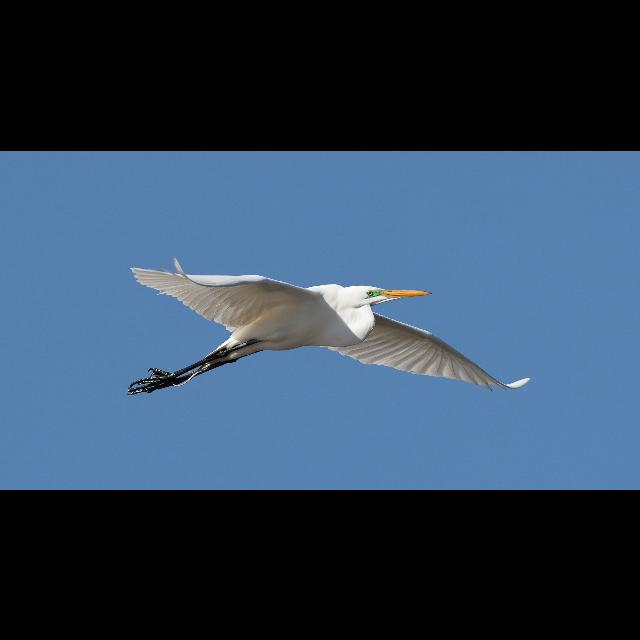egret: (129, 253, 527, 401)
